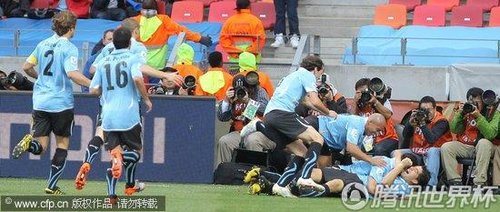10+: (1, 1, 498, 199)
down: (263, 144, 416, 189), (284, 161, 432, 198)
